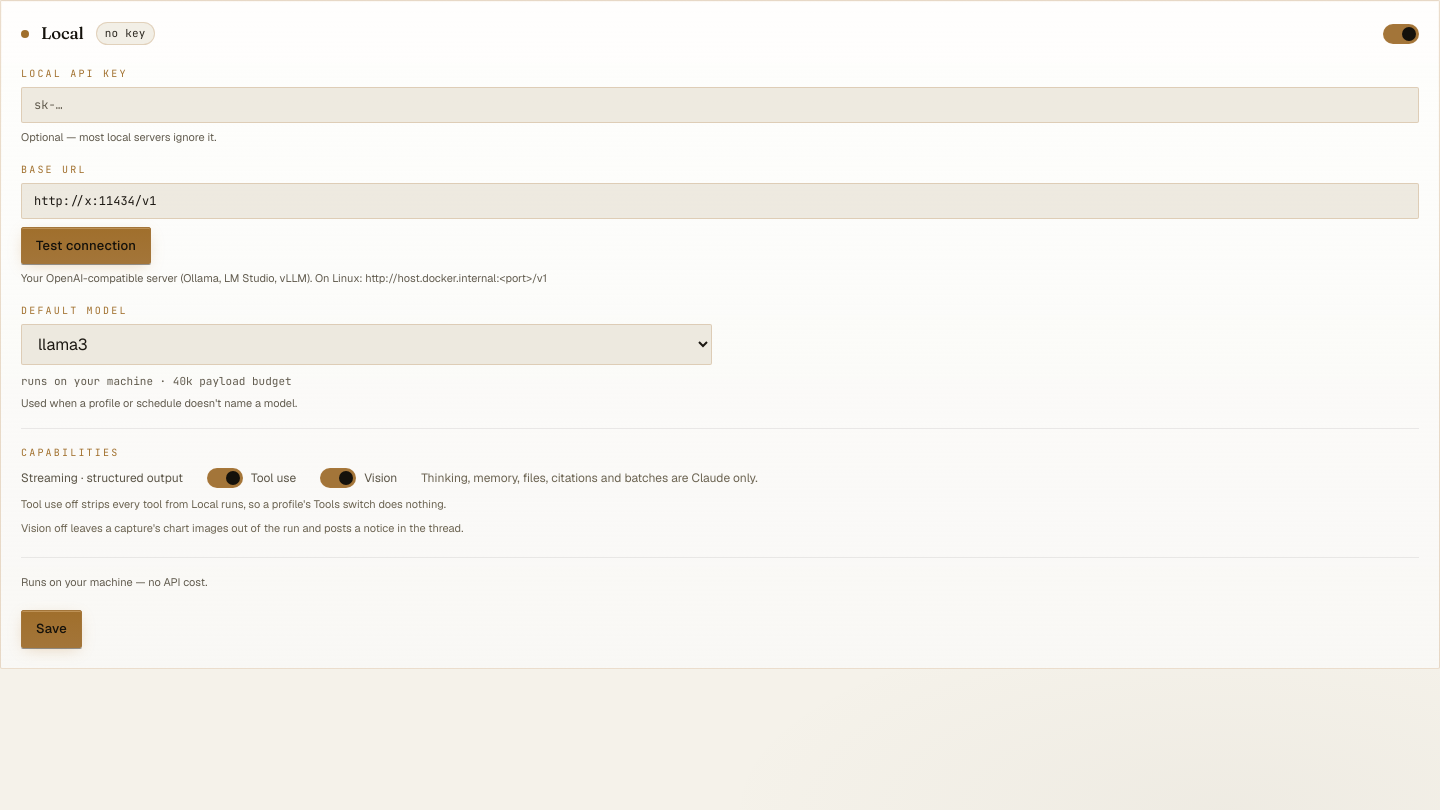
Test: ProviderCard — local provider › Test connection sends current base_url and shows the result
Click the button "Test connection". click: (86,245)
box: [21,227,151,264]
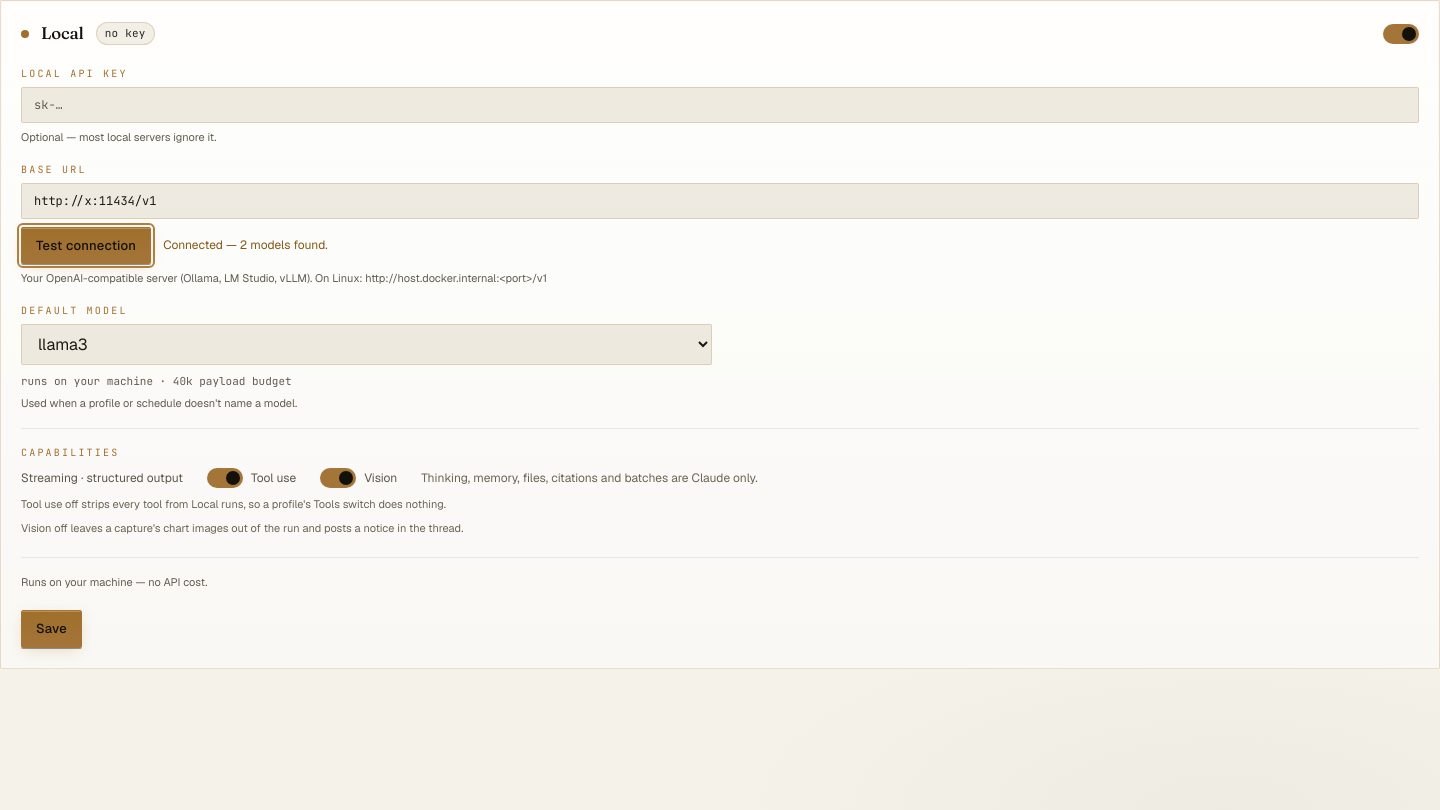
Check: the text "Connected — 2 models found." is shown, box [163,236,328,254]
